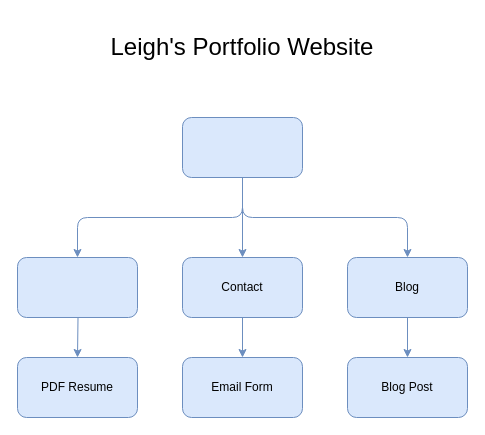
The diagram is 485 pixels wide and 435 high, and some of its shapes have lost their labels. Here are the shapes that lost their labels. From the top down, the centre of each, then its label:
At pixel 242 147: "Home".
At pixel 77 287: "About Me".
